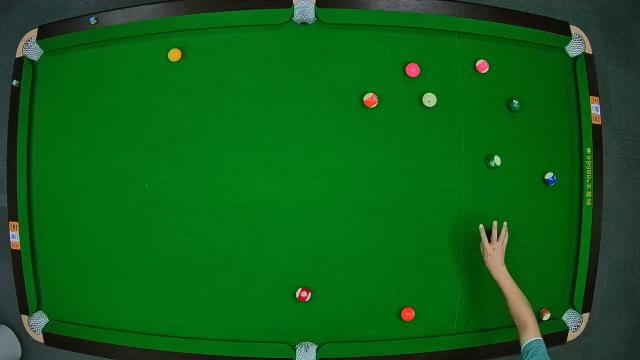bag1: (22, 38, 44, 62)
bag2: (293, 1, 315, 23)
bag3: (566, 34, 586, 57)
bag4: (29, 308, 49, 334)
bag5: (294, 342, 320, 360)
bag6: (562, 310, 582, 332)
ball0: (422, 92, 436, 109)
ball1: (166, 46, 182, 62)
ball10: (542, 172, 560, 187)
ball11: (294, 287, 312, 303)
ball12: (474, 59, 490, 75)
ball13: (364, 92, 381, 110)
ball14: (486, 153, 502, 169)
ball15: (538, 306, 552, 320)
ball4: (406, 63, 422, 78)
ball5: (400, 306, 416, 322)
ball6: (507, 98, 523, 112)
